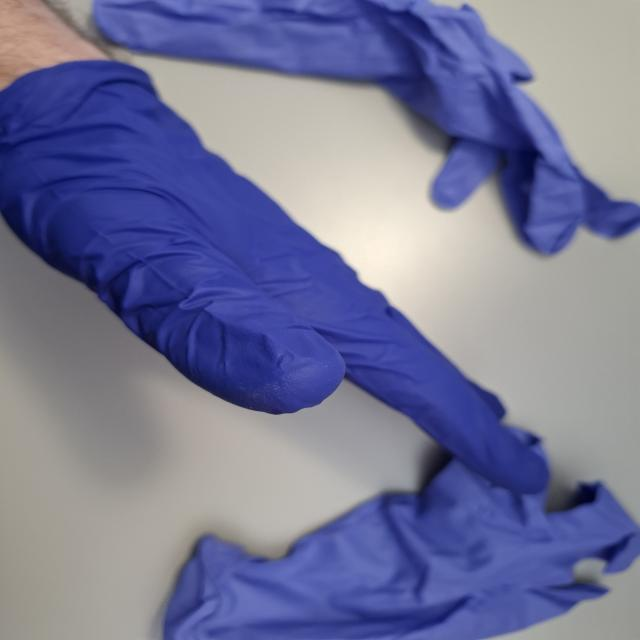glove_on: (0, 50, 562, 495)
